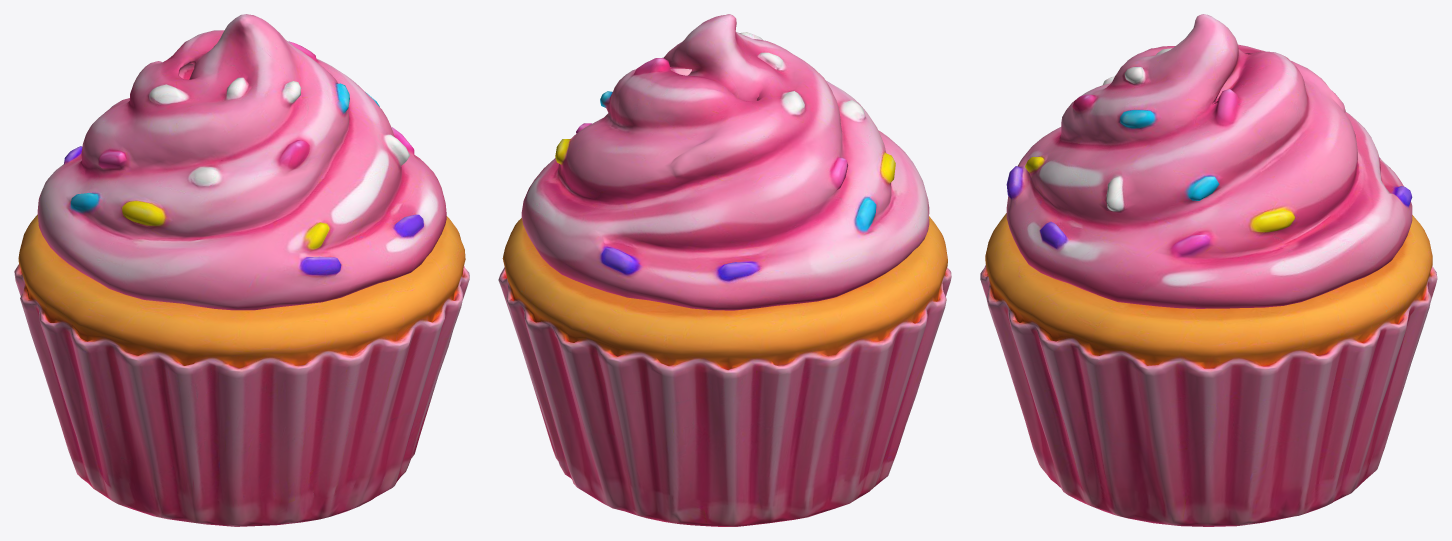
Rendered from pink_cupcake.glb.
3 renders of one model, left to right at view 1: azimuth 30°, elevation 25°; view 2: azimuth 150°, elevation 25°; view 3: azimuth 270°, elevation 25°, orthographic.
Bounding box in the file's own units: 1.78 × 1.91 × 1.77.
1 material, 1 textured.
